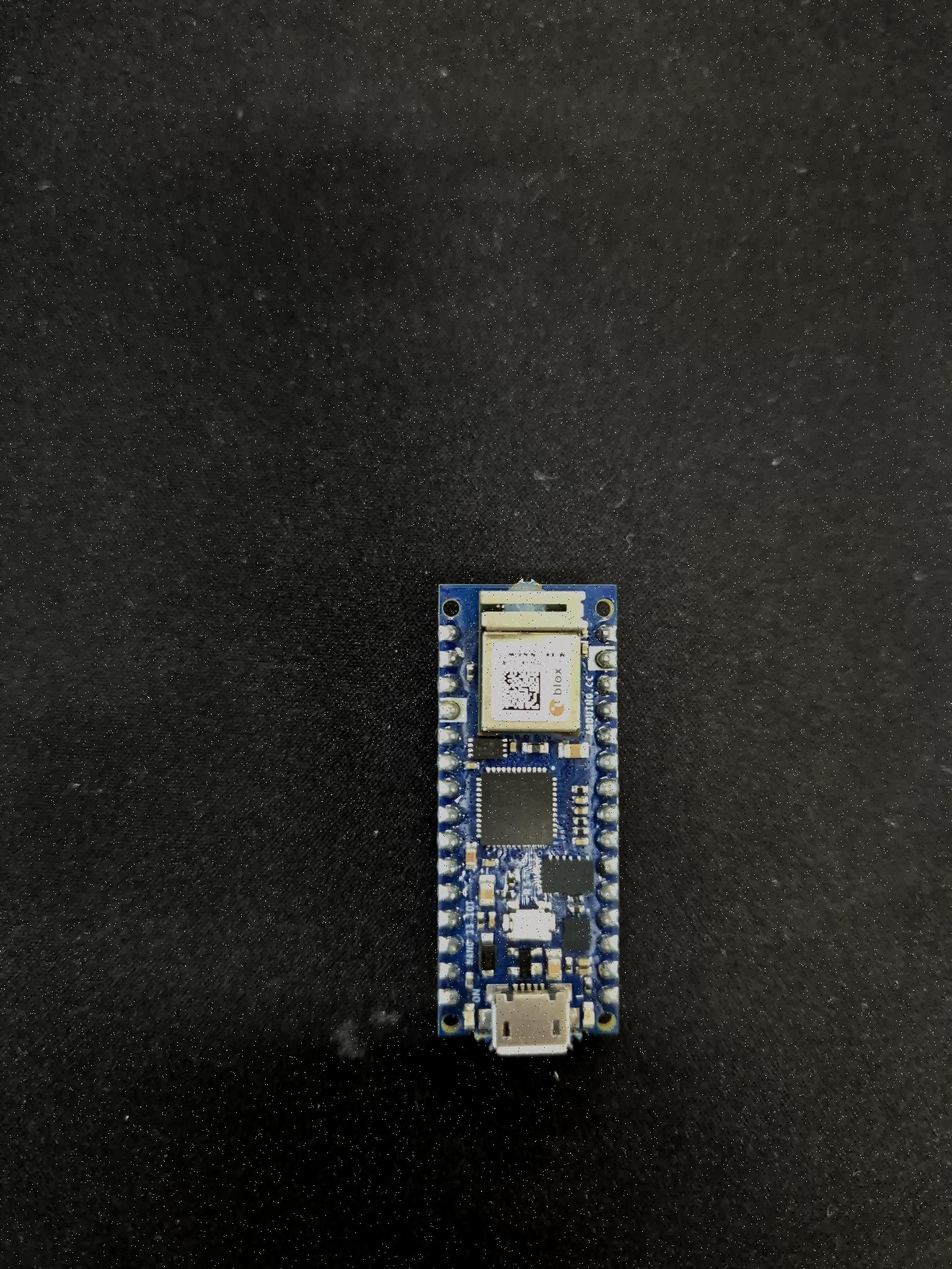arduino-nano-iot-33: (437, 581, 619, 1055)
